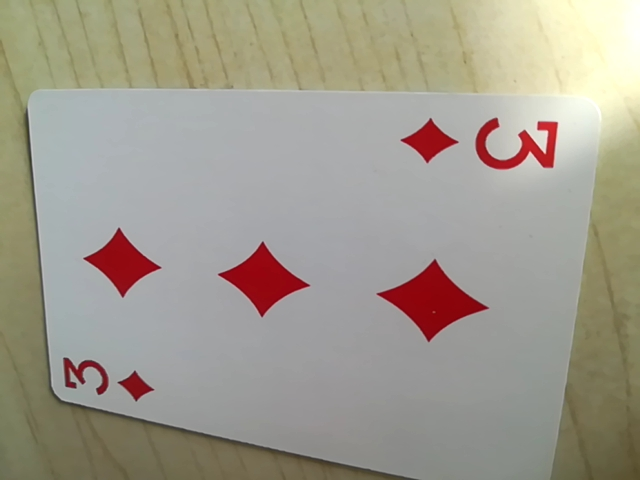fk 3: (401, 111, 559, 176), (56, 348, 158, 409)
